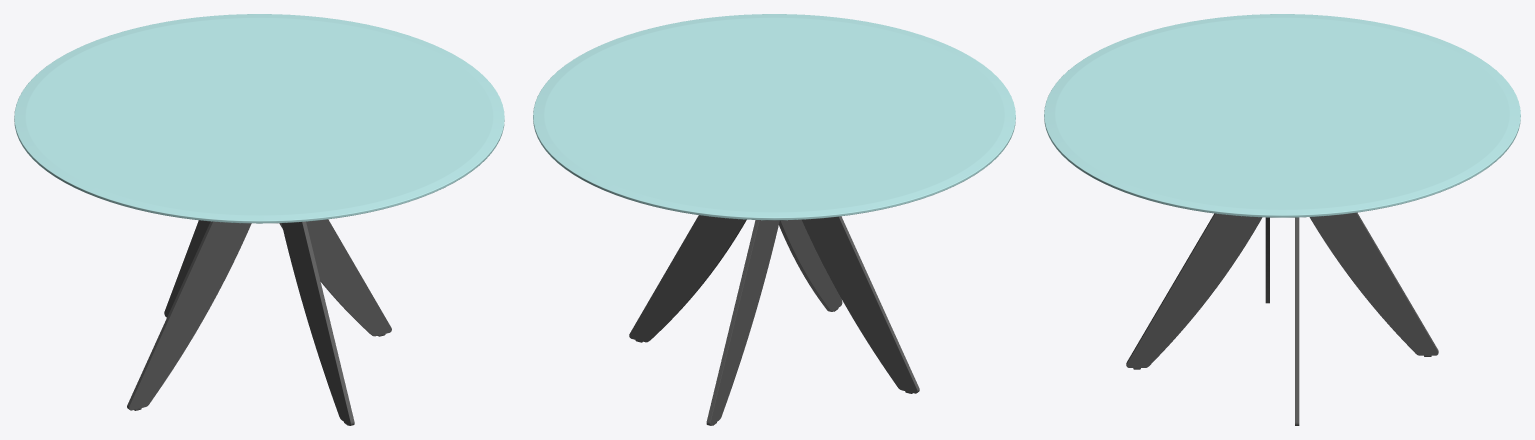
3 views of the same model, side by side, from view 1: azimuth 30°, elevation 25°; view 2: azimuth 150°, elevation 25°; view 3: azimuth 270°, elevation 25° (orthographic). The views are drawn at different scales.
Visible parts, largest first — view 1: Material-vetro, Material-Metallo_gambe; view 2: Material-vetro, Material-Metallo_gambe; view 3: Material-vetro, Material-Metallo_gambe.
Boxes of the visible parts, x1,y1,x2,y2 form: Material-vetro: (14,14,504,223); Material-Metallo_gambe: (127,219,391,425); Material-vetro: (533,14,1015,220); Material-Metallo_gambe: (629,215,919,425); Material-vetro: (1044,14,1520,217); Material-Metallo_gambe: (1126,212,1438,425).
Bounding box in the file's own units: 1.3 × 0.75 × 1.3.
